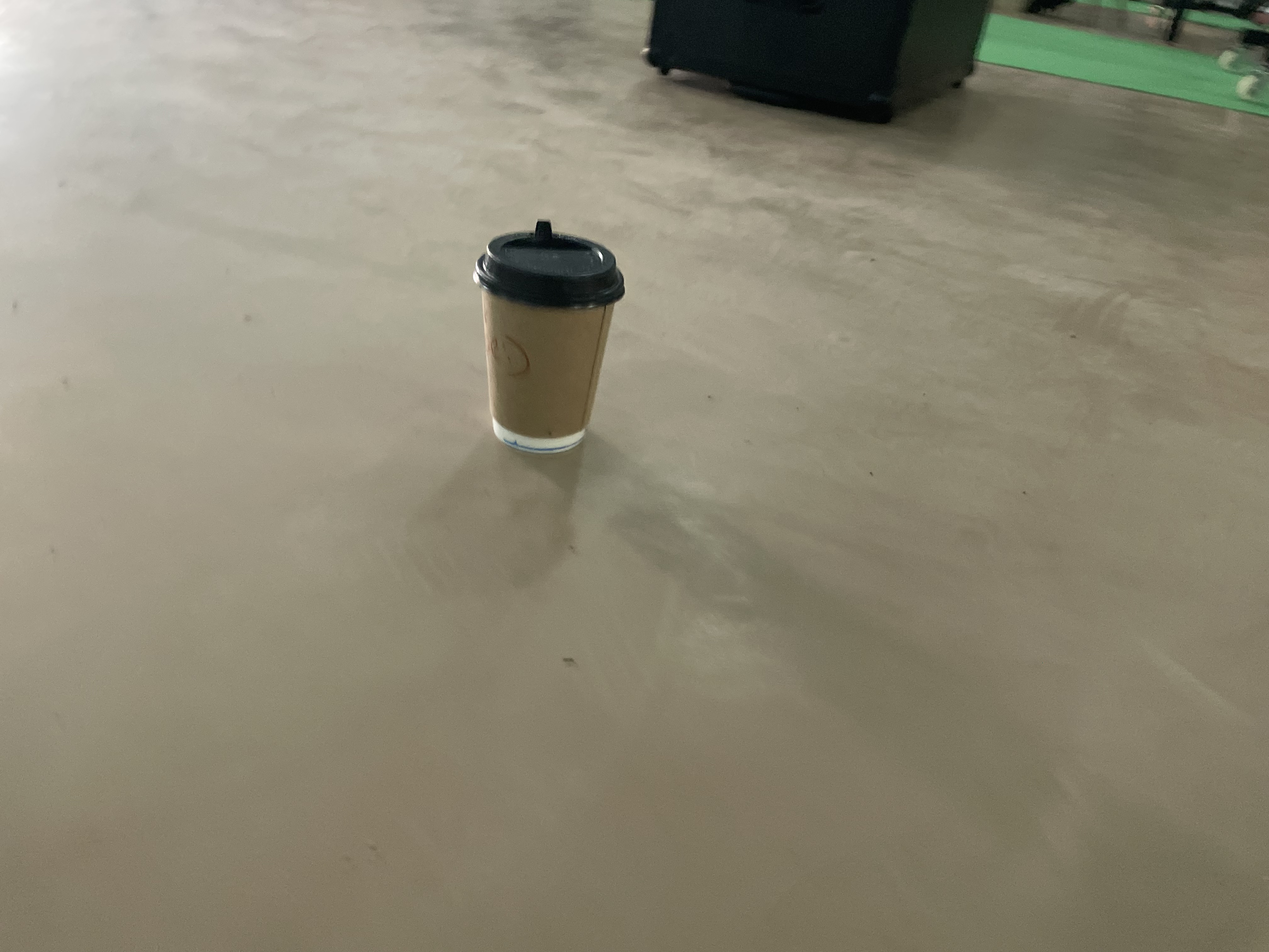cup: (473, 220, 626, 454)
